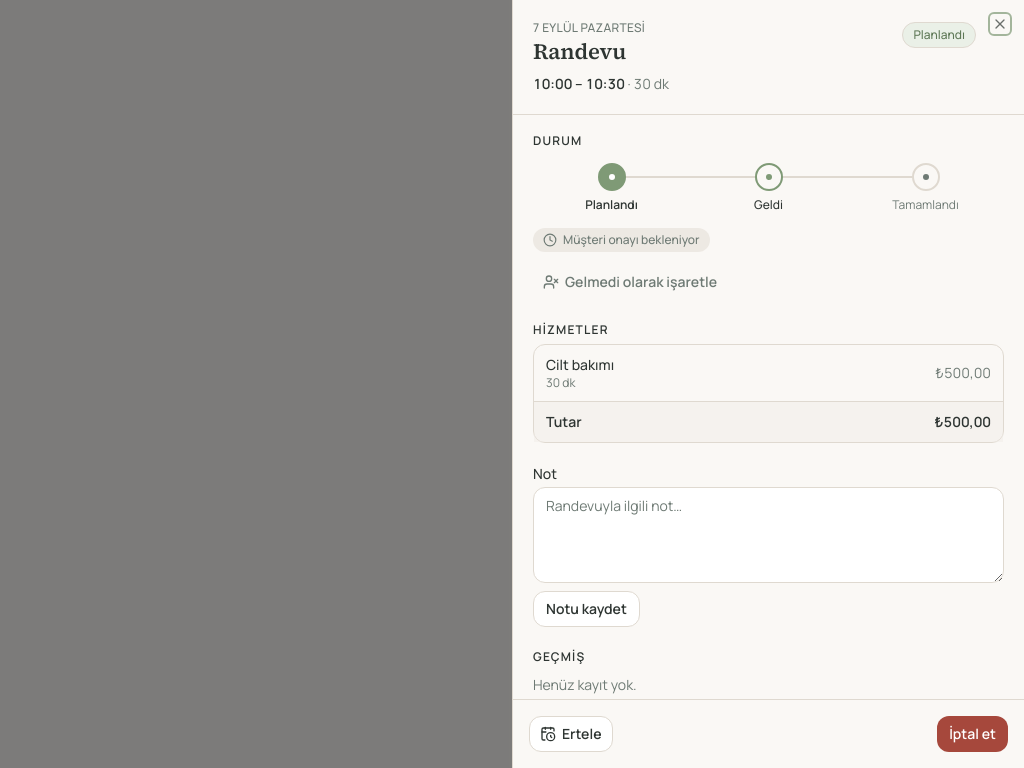
Test: randevu ayrıntı paneli › iptalde müşteriye bildirim › geçmiş randevuda kutu hiç gösterilmez
Step 1. Click the button "İptal et" → (973, 734), box left=937, top=716, right=1008, bottom=752
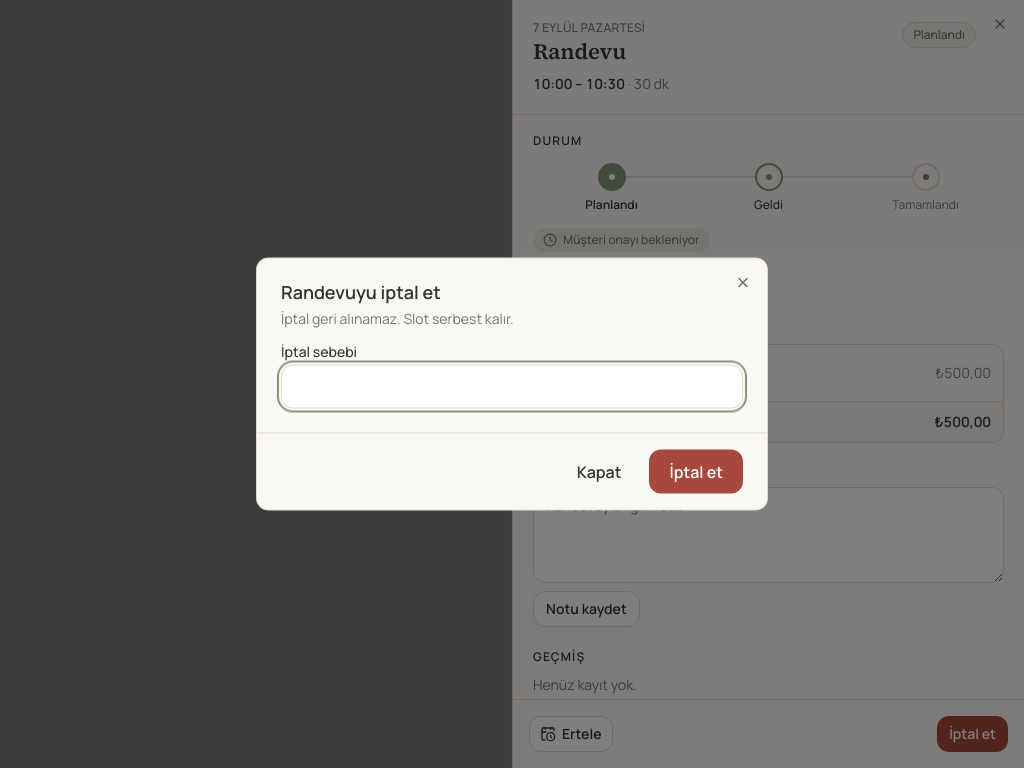
Now the dialog that starts with "Randevuyu iptal et" is shown, box left=256, top=258, right=768, bottom=510
